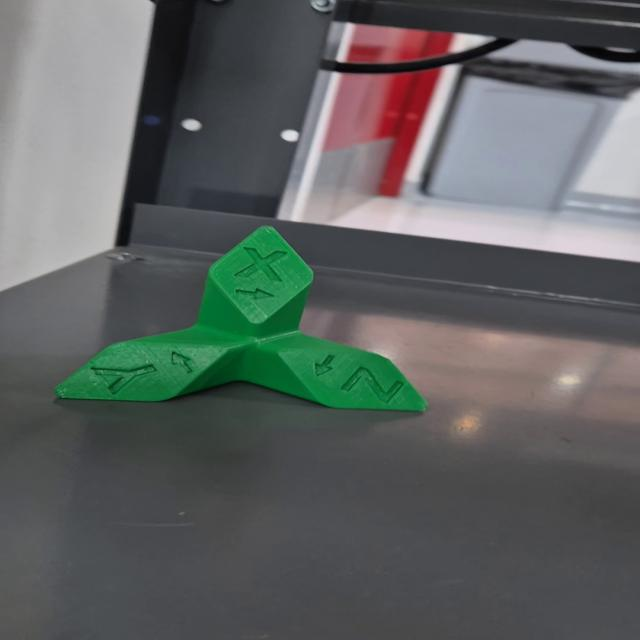objects: (50, 220, 432, 419)
